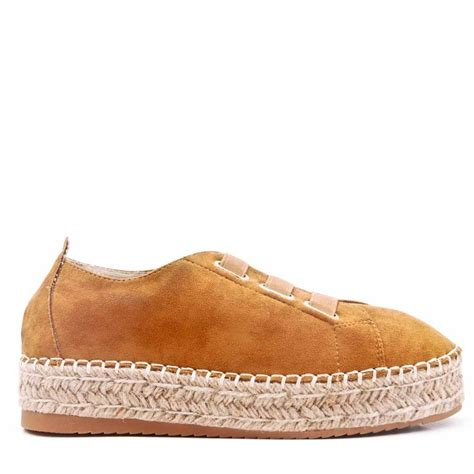gamuza: (21, 235, 457, 380)
